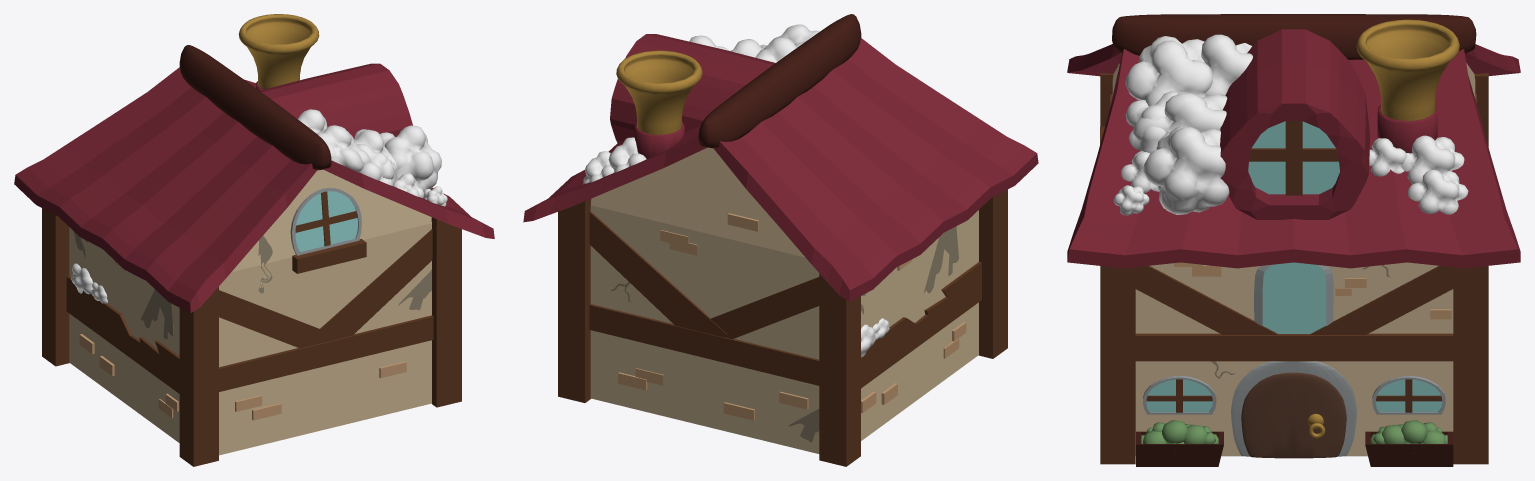
Rendered from Casa_Oficial_Protagonista.fbx.
3 views of the same model, side by side, from view 1: azimuth 30°, elevation 25°; view 2: azimuth 150°, elevation 25°; view 3: azimuth 270°, elevation 25° (orthographic). The views are drawn at different scales.
Parts seen in each view (by area): view 1: Base, Tejado.001, VentanaTejado, Tronco arriba, Biga3, Tablonlateral, Biga1, Chimetuba, Biga4, Tablon atras, Tablonlateralcruzado.001, Tablonlateralcruzado (+10 smaller); view 2: Base, Tejado.001, Tronco arriba, Biga4, Biga2, Tablonlateral.001, VentanaTejado, Chimetuba, Biga3, Tablon atras, Tablonlateralcruzado.003, Tejado (+6 smaller); view 3: Tejado, Base, VentanaTejado, Tablon, Tronco arriba, Puerta, Chimetuba, Biga2, Biga1, Sphere.004, VentanaMedio, Sphere.001 (+27 smaller).
Part boxes in pixels (left/top/right/bottom): Base: left=69, top=169, right=431, bottom=455; Tejado.001: left=14, top=67, right=317, bottom=313; VentanaTejado: left=260, top=63, right=412, bottom=138; Tronco arriba: left=179, top=45, right=331, bottom=170; Biga3: left=179, top=287, right=218, bottom=466; Tablonlateral: left=219, top=315, right=433, bottom=391; Biga1: left=431, top=217, right=461, bottom=407; Chimetuba: left=238, top=14, right=319, bottom=89; Biga4: left=42, top=208, right=69, bottom=366; Tablon atras: left=66, top=275, right=179, bottom=393; Tablonlateralcruzado.001: left=320, top=229, right=432, bottom=337; Tablonlateralcruzado: left=219, top=290, right=341, bottom=348; Base: left=590, top=147, right=978, bottom=453; Tejado.001: left=713, top=38, right=1038, bottom=301; Tronco arriba: left=698, top=14, right=861, bottom=148; Biga4: left=819, top=273, right=860, bottom=466; Biga2: left=558, top=199, right=591, bottom=402; Tablonlateral.001: left=589, top=304, right=819, bottom=385; VentanaTejado: left=610, top=34, right=775, bottom=144; Chimetuba: left=616, top=50, right=702, bottom=134; Biga3: left=978, top=189, right=1007, bottom=358; Tablon atras: left=861, top=262, right=981, bottom=388; Tablonlateralcruzado.003: left=589, top=211, right=726, bottom=337; Tejado: left=523, top=125, right=706, bottom=222; Tejado: left=1067, top=49, right=1520, bottom=268; Base: left=1112, top=63, right=1475, bottom=456; VentanaTejado: left=1220, top=29, right=1369, bottom=219; Tablon: left=1135, top=333, right=1453, bottom=361; Tronco arriba: left=1112, top=14, right=1476, bottom=59; Puerta: left=1241, top=372, right=1346, bottom=458; Chimetuba: left=1356, top=19, right=1459, bottom=121; Biga2: left=1453, top=266, right=1488, bottom=464; Biga1: left=1100, top=266, right=1135, bottom=464; Sphere.004: left=1143, top=125, right=1229, bottom=214; VentanaMedio: left=1262, top=262, right=1326, bottom=333; Sphere.001: left=1125, top=36, right=1213, bottom=106.
Bounding box in the file's own units: 449 × 423 × 451.
